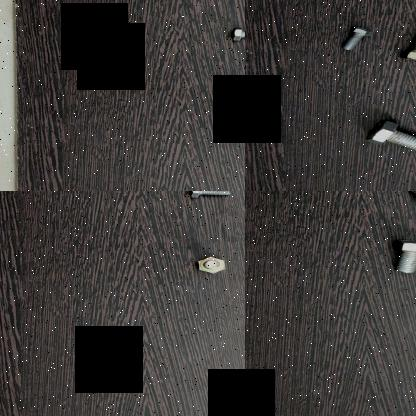Bolts: (362, 117, 416, 153), (378, 236, 416, 276), (391, 17, 416, 64), (338, 22, 376, 50), (192, 255, 230, 275), (393, 191, 416, 218), (185, 191, 233, 201), (225, 24, 245, 46), (229, 94, 245, 116)
